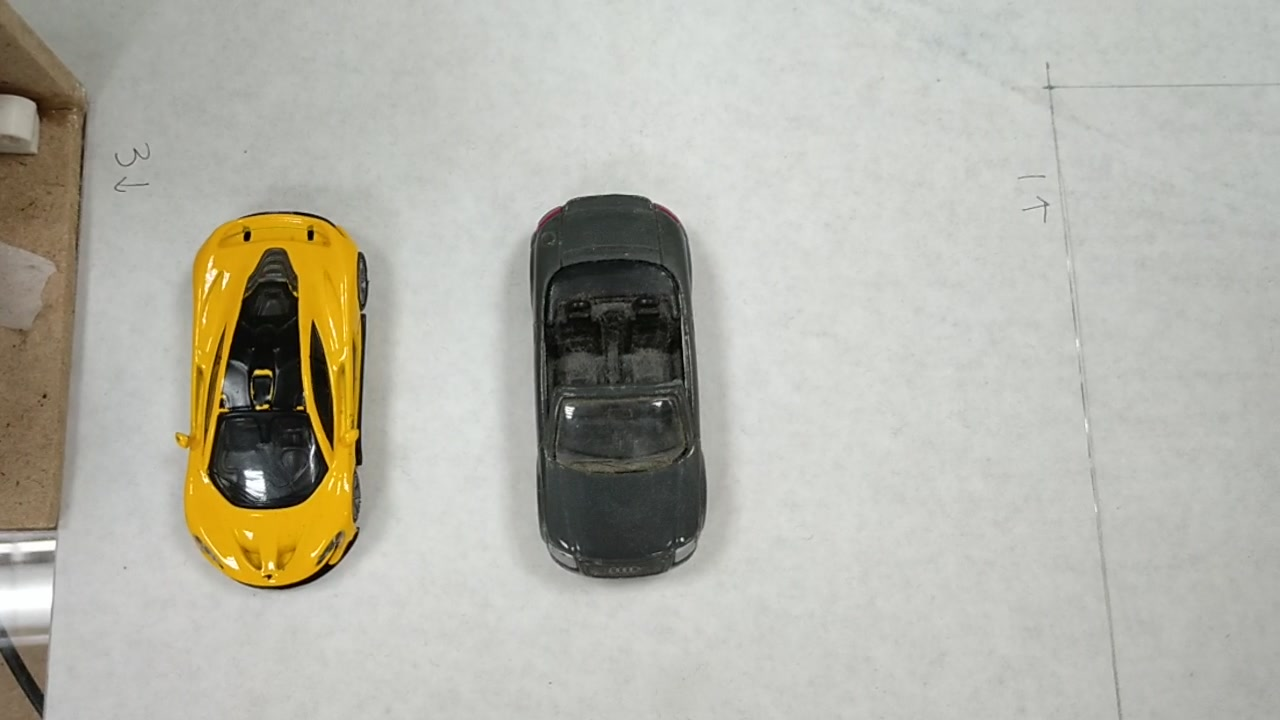car: (183, 211, 384, 572), (534, 188, 700, 576)
